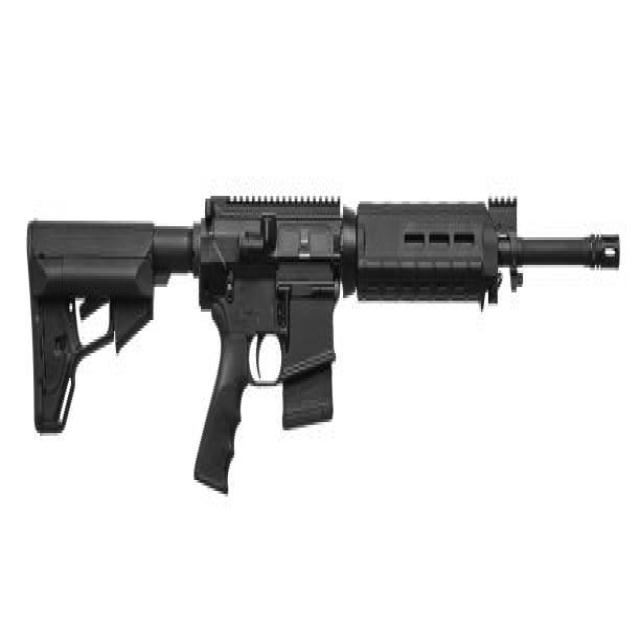rifle: (19, 174, 625, 506)
